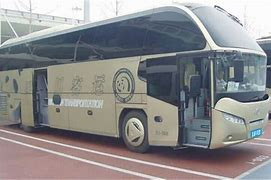bigcar: (0, 1, 268, 160)
